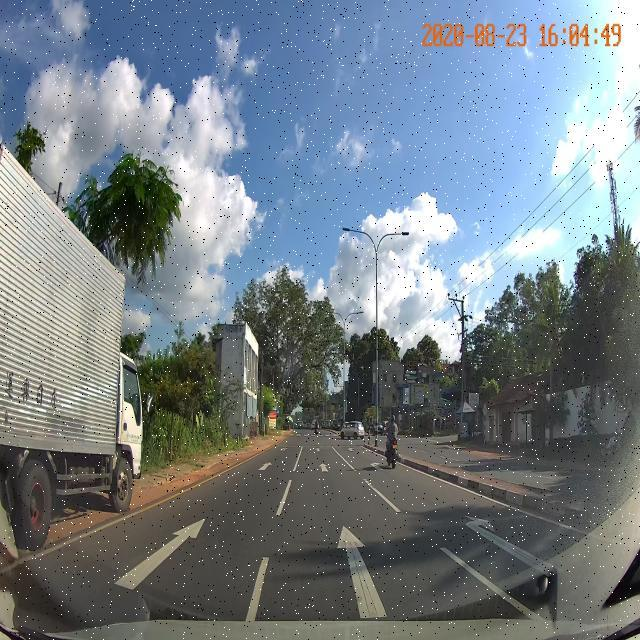forward: (245, 518, 544, 622)
